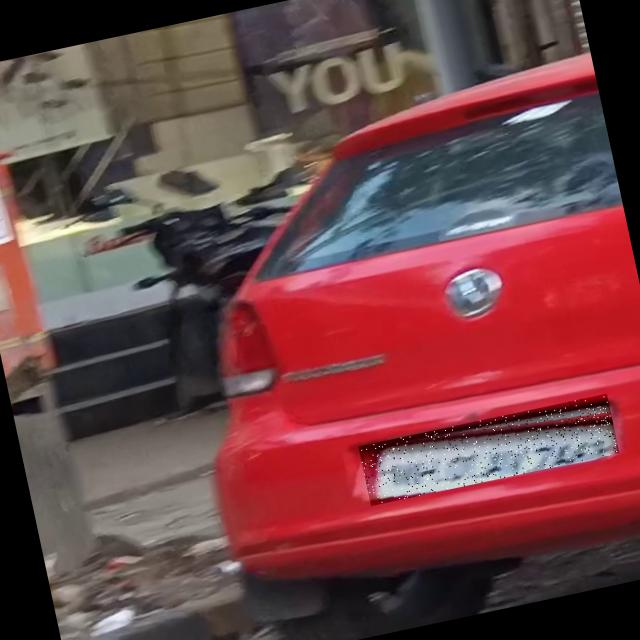Plate: (359, 395, 620, 507)
